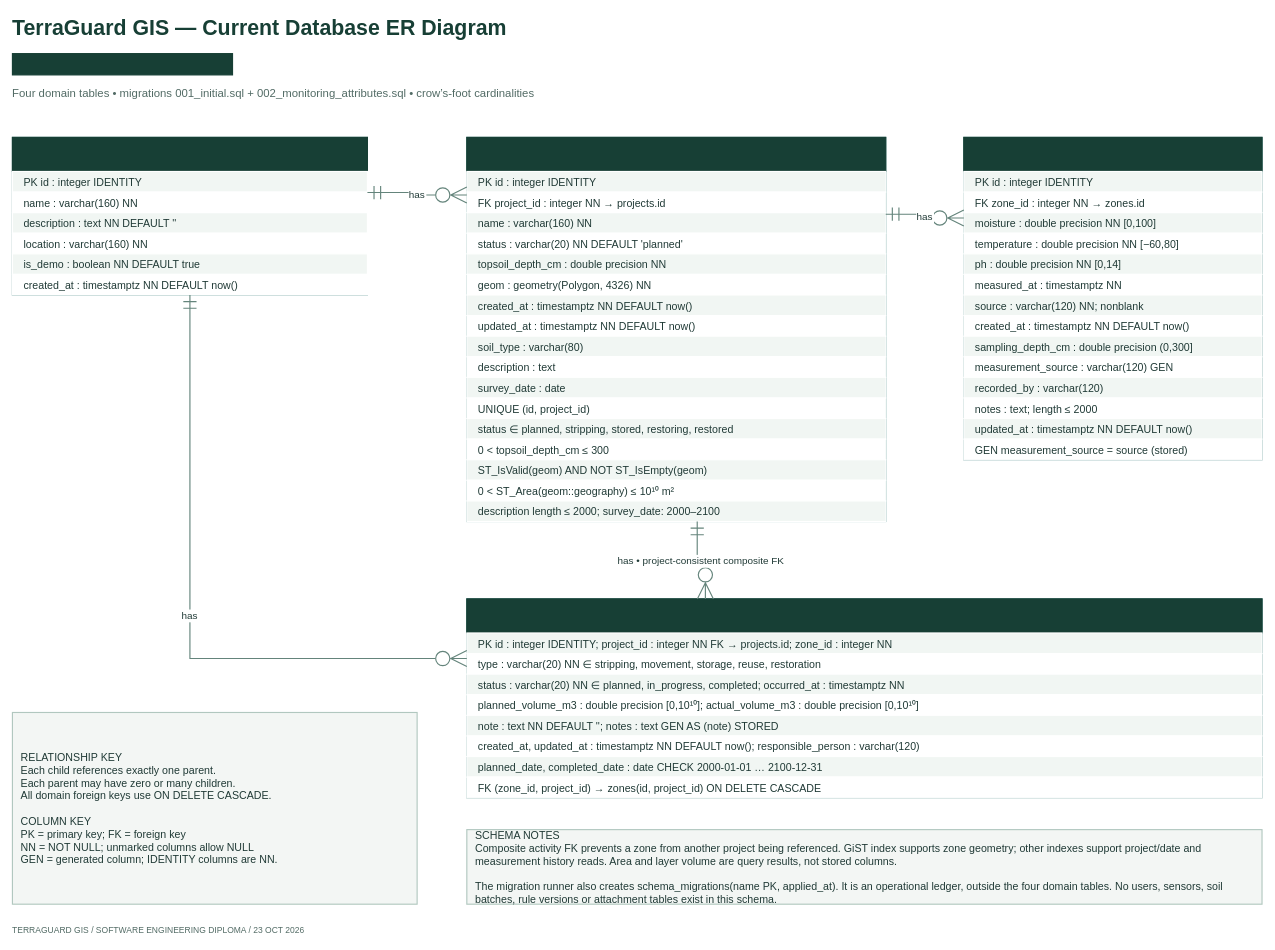
The diagram is 1275 pixels wide and 950 high, and some of its shapes have lost their labels. The shapes that lost their labels are listed below. From the top down, each one's centre as x and y in pixels, then its label:
At (x=122, y=64): "CURRENT DATABASE SCHEMA".
At (x=190, y=154): "projects".
At (x=676, y=154): "zones".
At (x=1112, y=154): "soil_measurements".
At (x=864, y=615): "activities".
